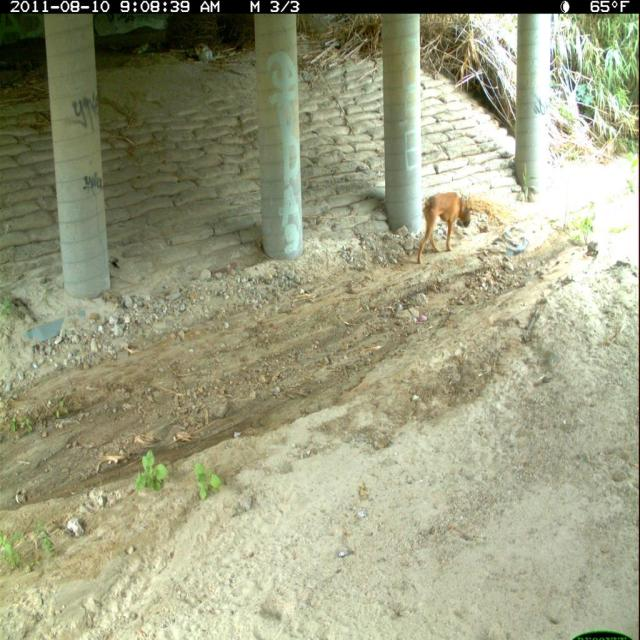dog: (412, 187, 476, 269)
